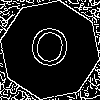O: (25, 25, 73, 78)
